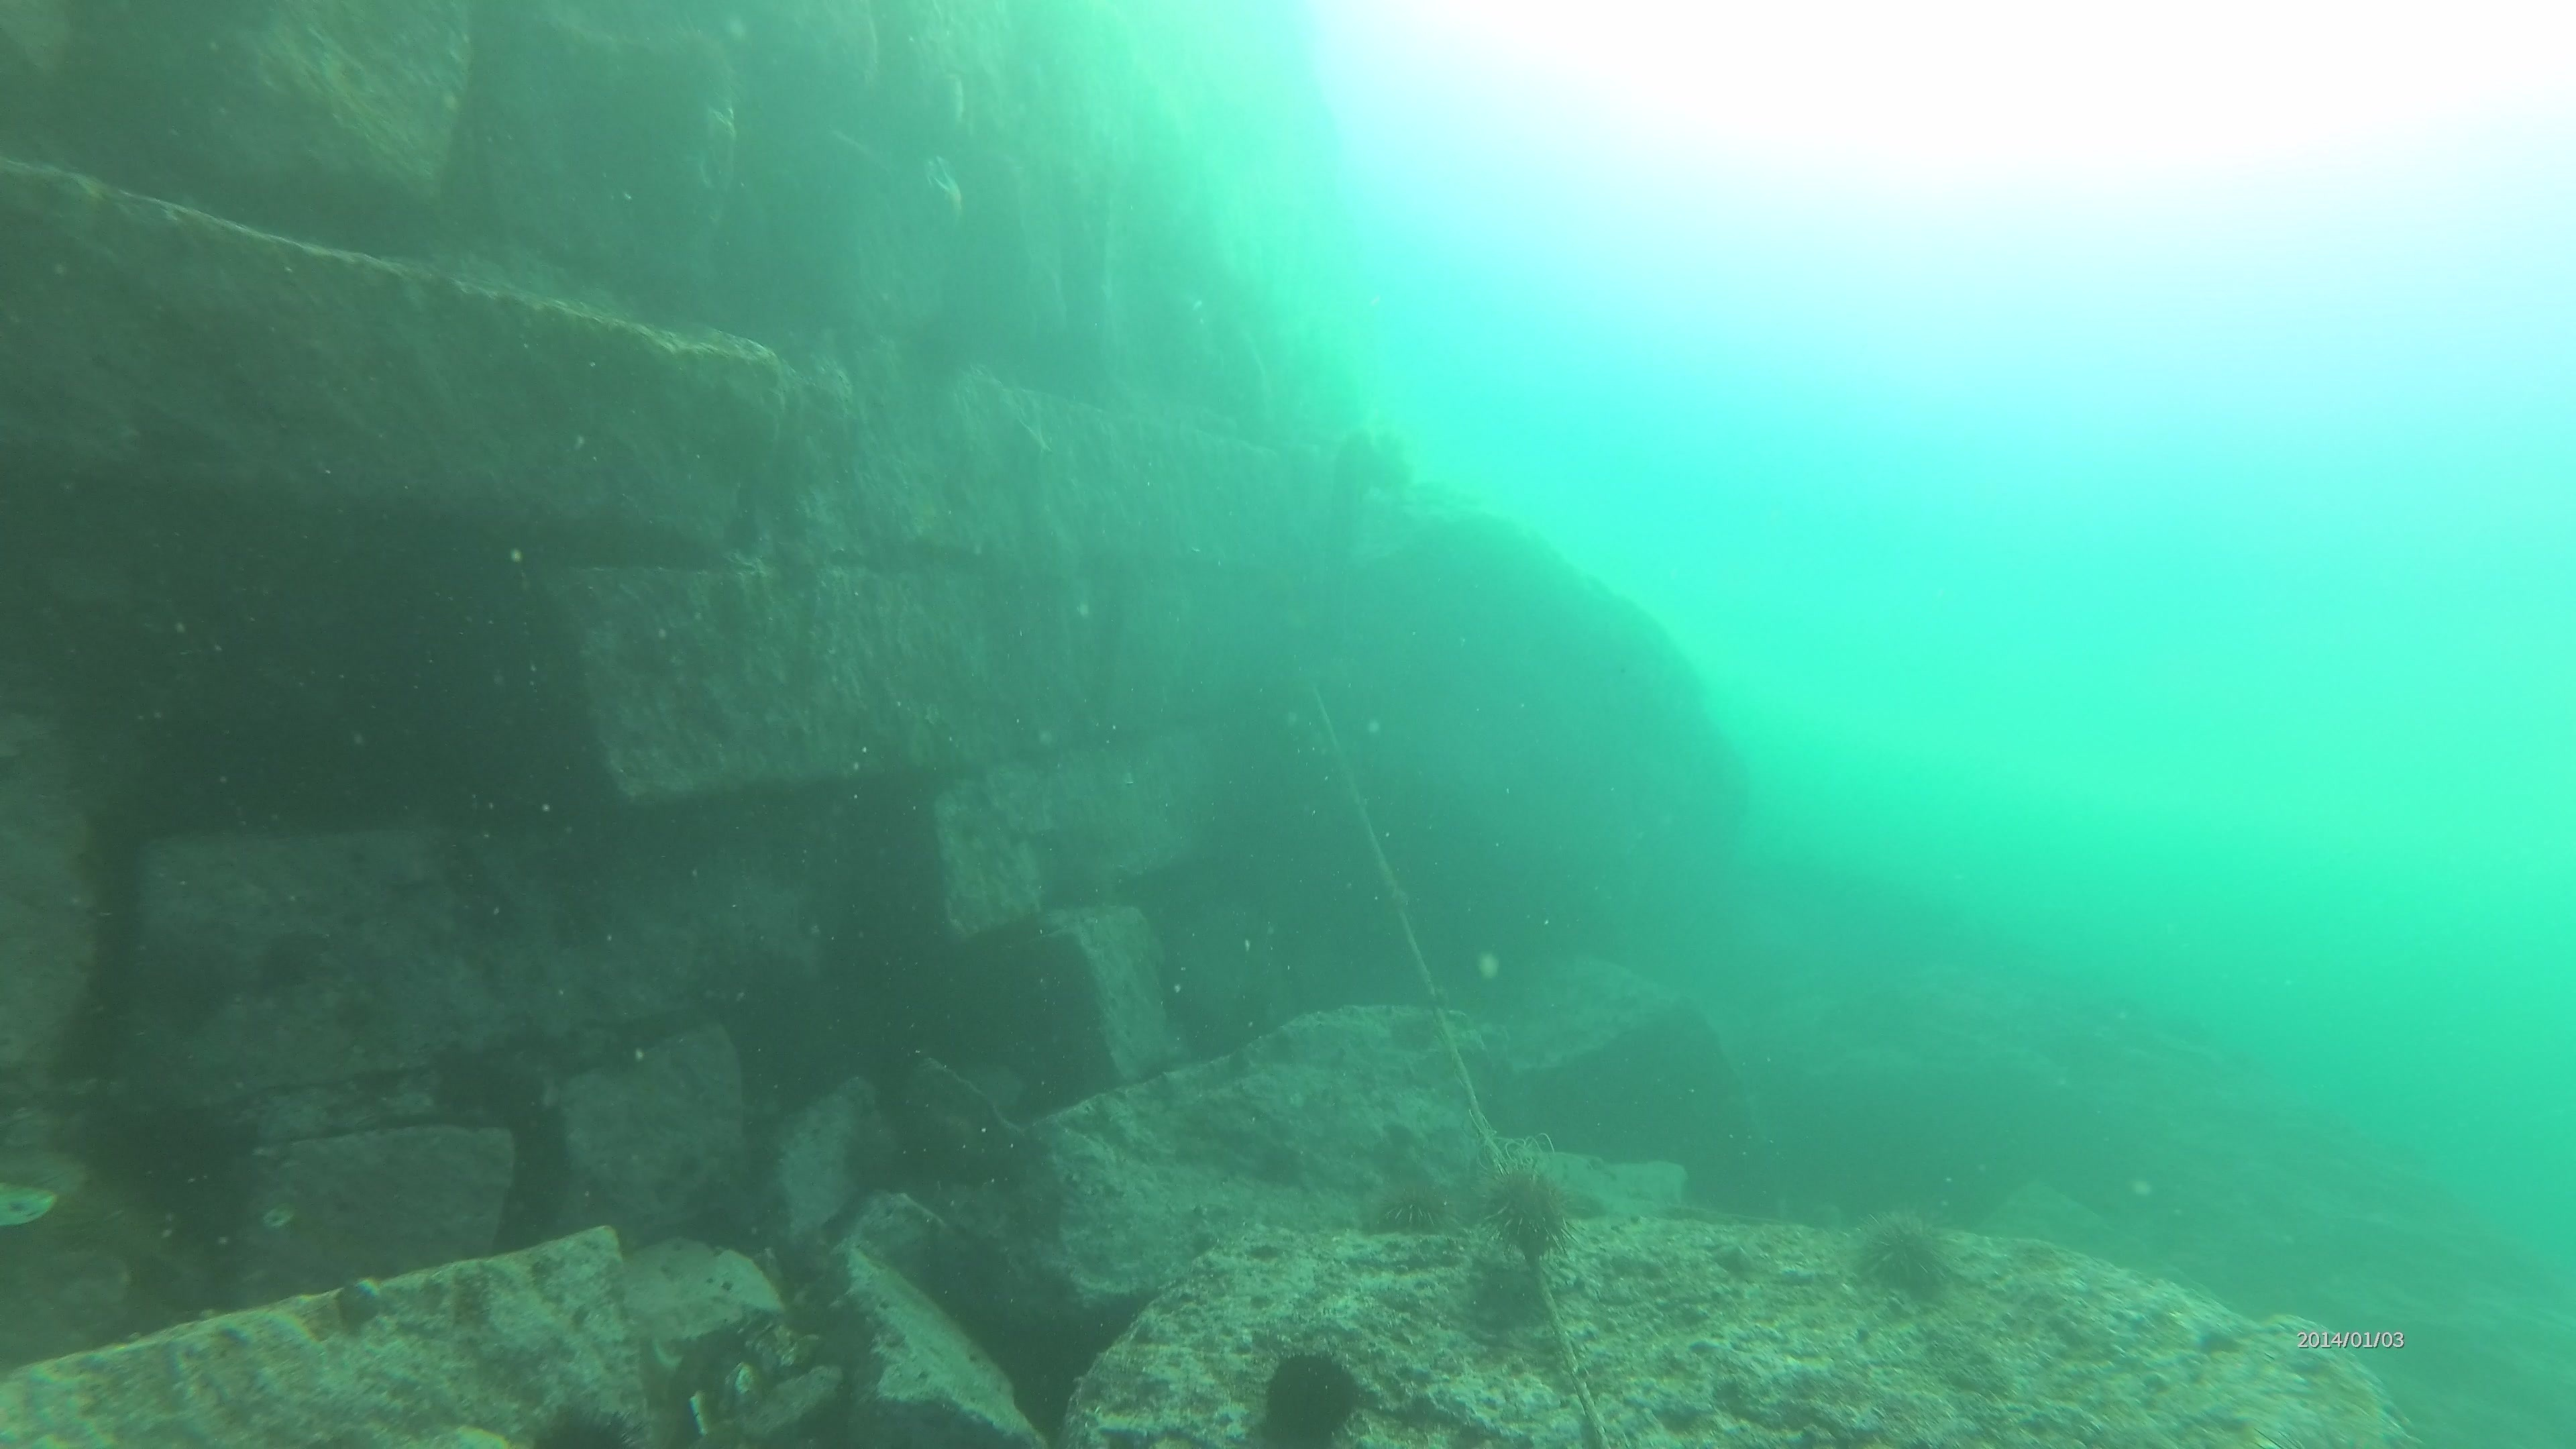echinus: (76, 1083, 272, 1251), (1246, 1339, 1376, 1445), (1467, 1152, 1583, 1269), (1842, 1205, 1967, 1311), (1375, 1178, 1449, 1235)
